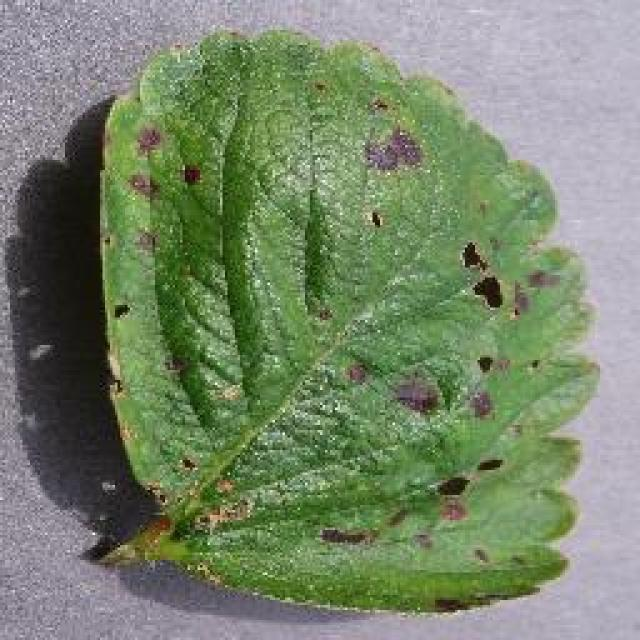Strawberry leaf scorch: (138, 107, 492, 455)
